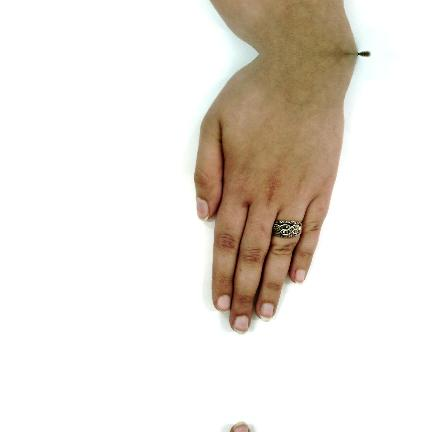Nail: (197, 196, 209, 220), (234, 316, 249, 335), (260, 303, 275, 322), (217, 295, 231, 312), (295, 269, 306, 285), (234, 421, 249, 432)
